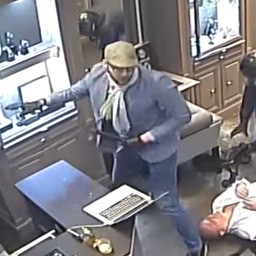person: (7, 40, 210, 256)
